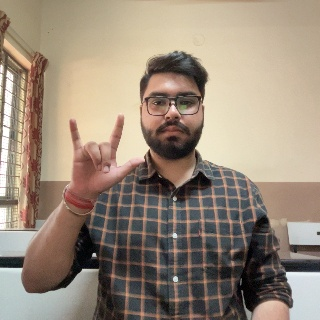I Love You: (62, 112, 147, 210)
